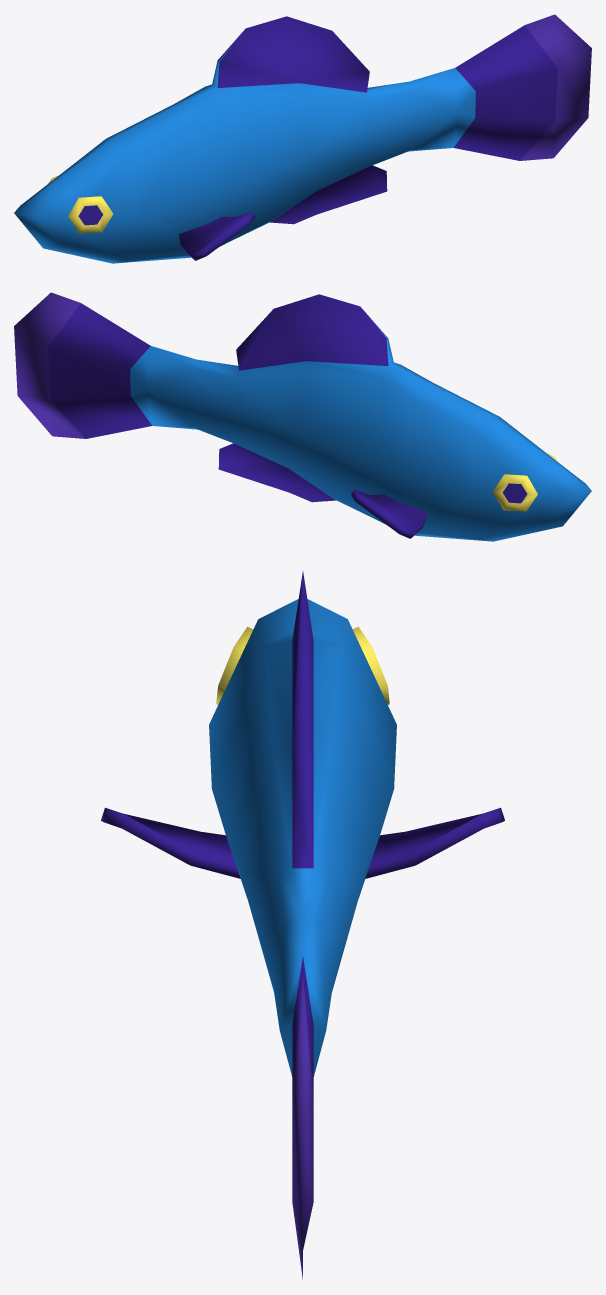
File: Fish_035.glb
The picture shows the model from 3 angles, top to bottom: view 1: azimuth 30°, elevation 25°; view 2: azimuth 150°, elevation 25°; view 3: azimuth 270°, elevation 25°; orthographic projection. The views are drawn at different scales.
Visible parts, largest first — view 1: Fish_035; view 2: Fish_035; view 3: Fish_035.
Boxes of the visible parts, x1,y1,x2,y2 form: Fish_035: (14, 14, 591, 263); Fish_035: (14, 292, 591, 541); Fish_035: (101, 571, 504, 1279).
Bounding box in the file's own units: 0.6149 × 0.2229 × 0.1863.
1 material, 1 textured.
